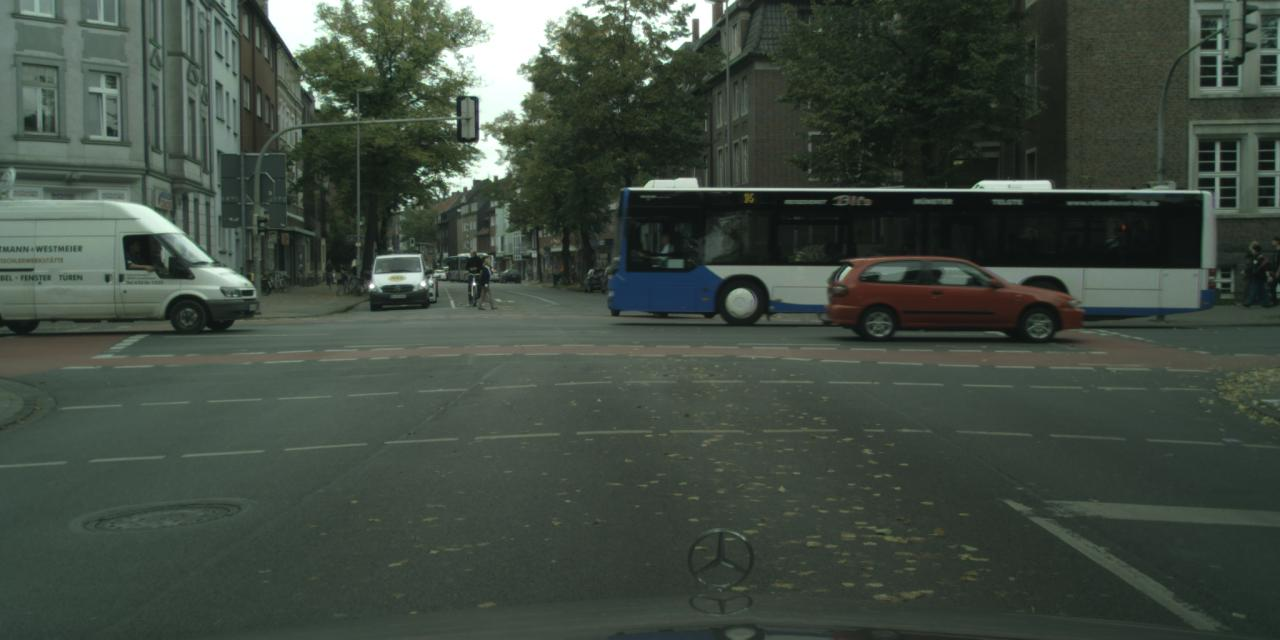ped: (1243, 244, 1269, 307), (1242, 241, 1267, 304), (462, 249, 483, 301), (477, 258, 497, 308), (1264, 236, 1278, 304), (325, 260, 334, 282)
